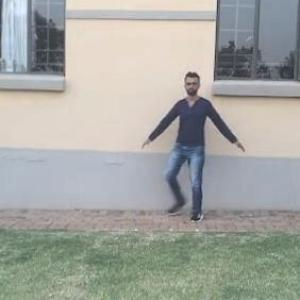land: (144, 75, 246, 230)
